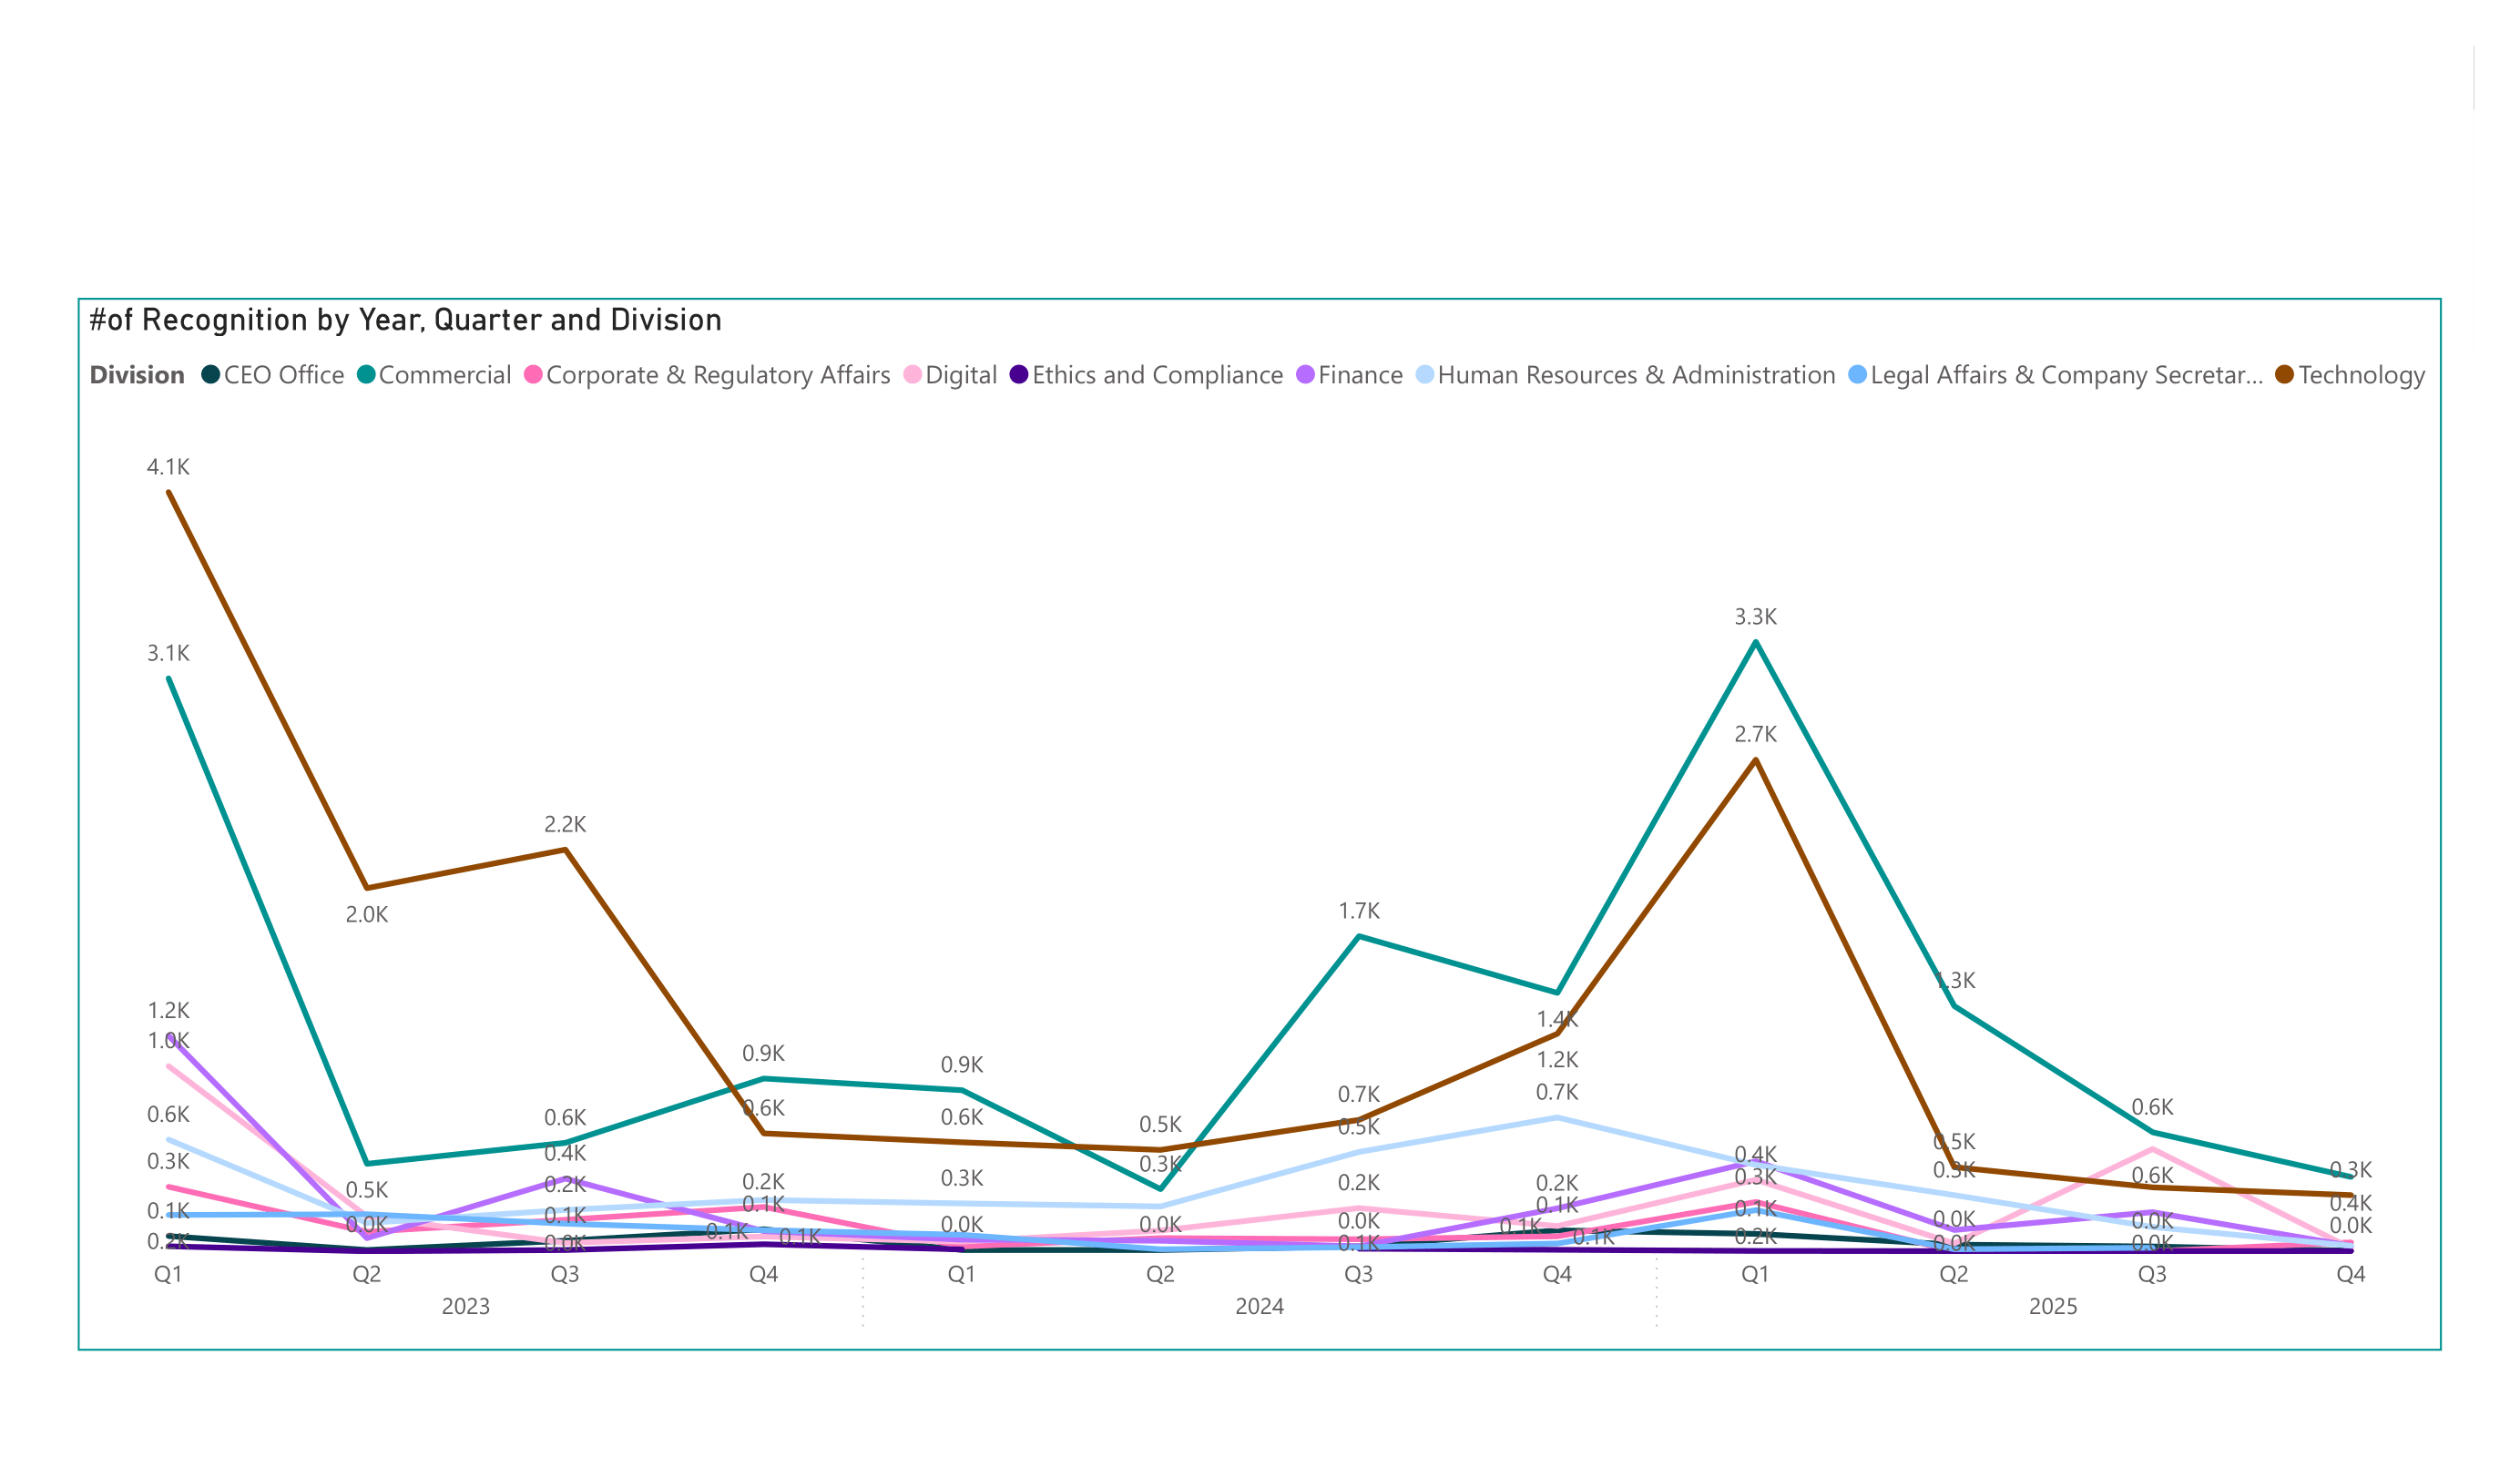

Layout of this report page (visuals, bound fields, positions):
{"tool":"powerbi","page":{"name":"Function3","canvas":[1280,720],"ordinal":11},"visuals":[{"type":"lineChart","fields":{"Category":["DimDate.Year","DimDate.Quarter"],"Y":["Recognition Data.#of Recognition"],"Series":["Active Employee Database 2025.Division"]},"box":[16.7,133.3,1246.7,555],"z":0}]}

Visuals, with their boxes on the page's 1280x720 design canvas (x1, y1, x2, y2). These are canvas units, not pixel positions in the 2520x1457 screenshot, which may show the page scaled, cropped or inside an application window:
lineChart - DimDate.Year x DimDate.Quarter: region(17, 133, 1263, 688)
